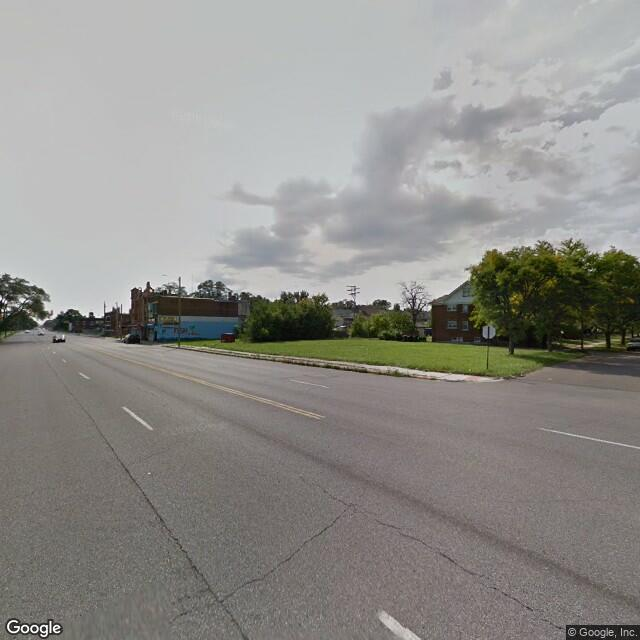litter: (464, 368, 473, 371)
